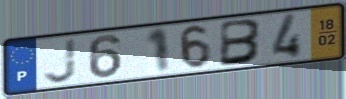1: (144, 26, 172, 76)
4: (269, 11, 305, 62)
6: (86, 33, 124, 81), (178, 23, 214, 70)
B: (217, 18, 265, 69)
J: (41, 37, 79, 86)
